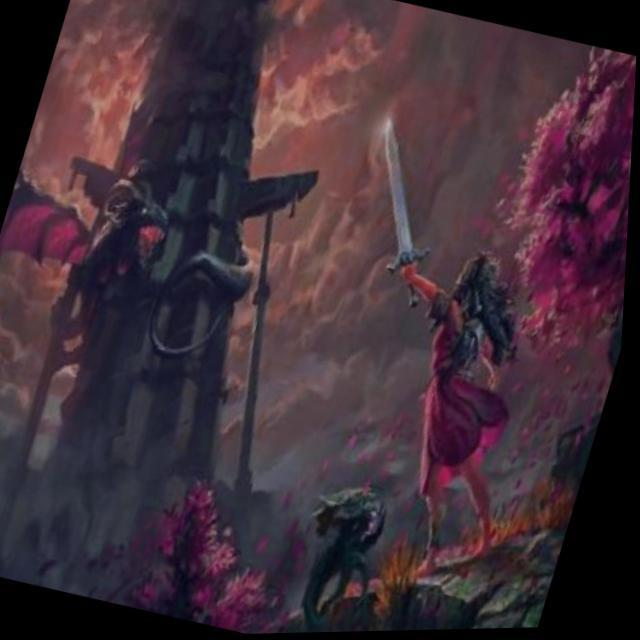weapon: (306, 228, 582, 602), (336, 115, 472, 313)
